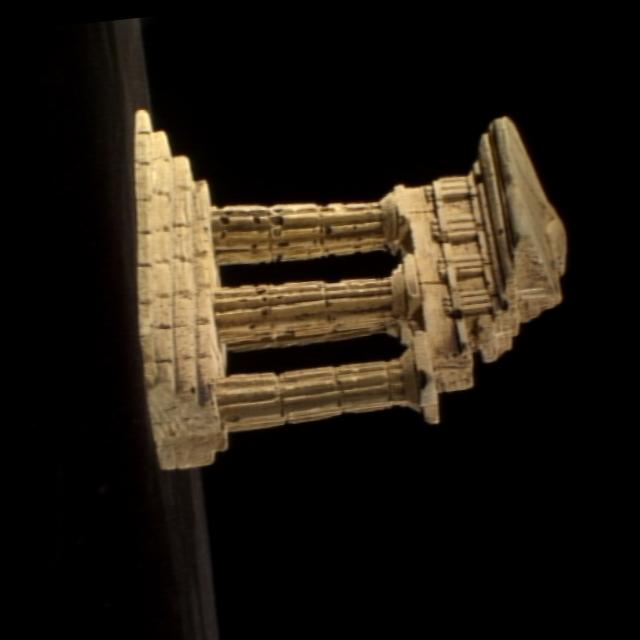Instance-Segmentation: (133, 110, 566, 469)
